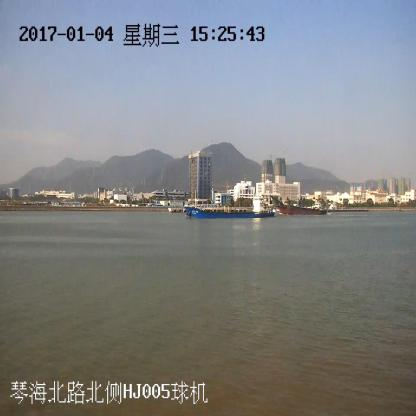Bulk Carrier: (186, 193, 271, 218), (270, 196, 329, 215)
